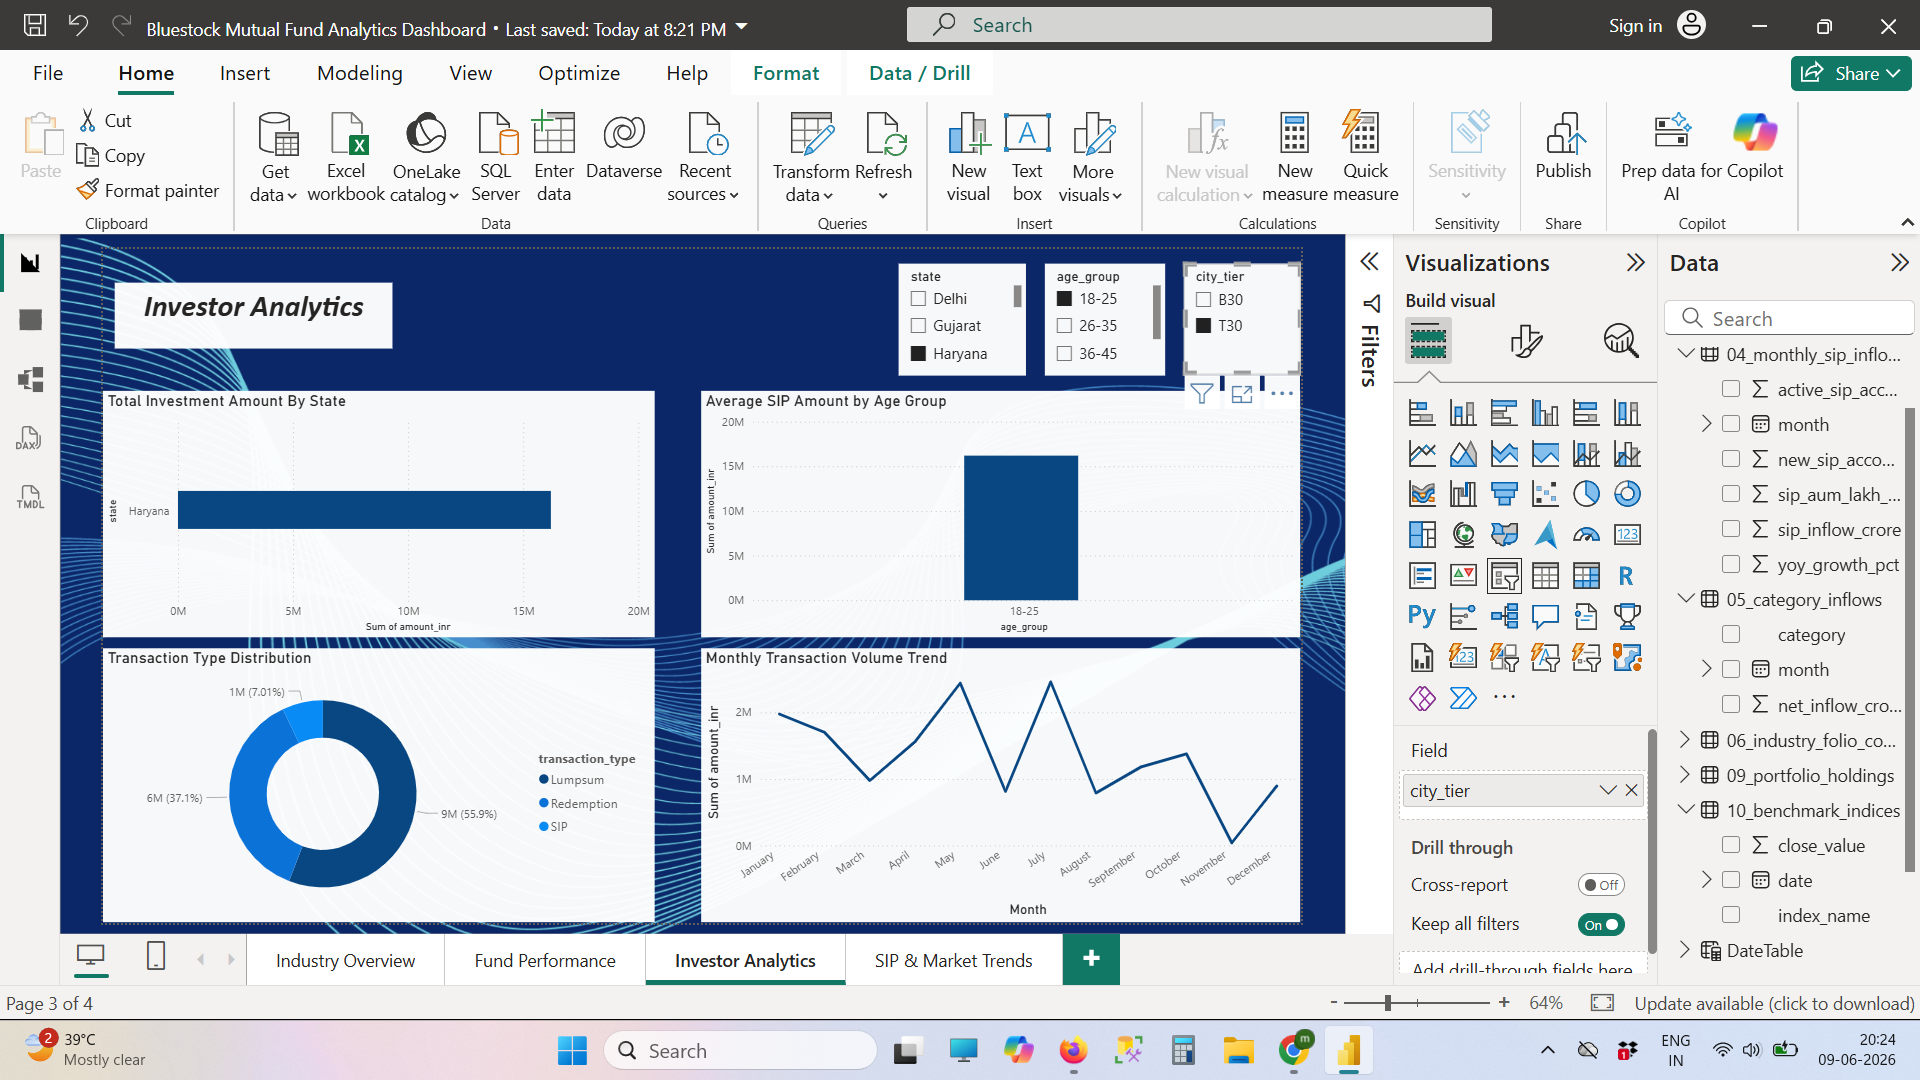

The page's visual inventory and layout, read from the dashboard file:
{"tool":"powerbi","page":{"name":"Investor Analytics","canvas":[1280,720],"ordinal":2},"visuals":[{"type":"clusteredBarChart","title":"Total Investment Amount By State","fields":{"Category":["investor_transactions_clean.state"],"Y":["Sum(investor_transactions_clean.amount_inr)"]},"box":[0,151.5,589.2,263.2],"z":0},{"type":"donutChart","title":"Transaction Type Distribution","fields":{"Category":["investor_transactions_clean.transaction_type"],"Y":["Sum(investor_transactions_clean.amount_inr)"]},"box":[0,427,589.2,292.3],"z":1000},{"type":"clusteredColumnChart","title":"Average SIP Amount by Age Group","fields":{"Category":["investor_transactions_clean.age_group"],"Y":["Sum(investor_transactions_clean.amount_inr)"]},"box":[639.7,151.5,639.7,263.2],"z":2000},{"type":"lineChart","title":"Monthly Transaction Volume Trend","fields":{"Y":["Sum(investor_transactions_clean.amount_inr)"],"Category":["investor_transactions_clean.transaction_date.Variation.Date Hierarchy.Month"]},"box":[639.7,427,639.7,292.3],"z":3000},{"type":"slicer","fields":{"Values":["investor_transactions_clean.state"]},"box":[849.4,15.3,136.2,119.4],"z":4000},{"type":"slicer","fields":{"Values":["investor_transactions_clean.age_group"]},"box":[1007,15.3,128.6,119.4],"z":5000},{"type":"slicer","fields":{"Values":["investor_transactions_clean.city_tier"]},"box":[1154,15.3,125.5,119.4],"z":6000},{"type":"textbox","box":[12.2,35.2,296.9,70.4],"z":7000}]}

Visuals, with their boxes on the page's 1280x720 design canvas (x1, y1, x2, y2). These are canvas units, not pixel positions in the 1920x1080 screenshot, which may show the page scaled, cropped or inside an application window:
"Total Investment Amount By State" clusteredBarChart: 0/152/589/415
"Transaction Type Distribution" donutChart: 0/427/589/719
"Average SIP Amount by Age Group" clusteredColumnChart: 640/152/1279/415
"Monthly Transaction Volume Trend" lineChart: 640/427/1279/719
slicer - investor_transactions_clean.state: 849/15/986/135
slicer - investor_transactions_clean.age_group: 1007/15/1136/135
slicer - investor_transactions_clean.city_tier: 1154/15/1280/135
textbox: 12/35/309/106
